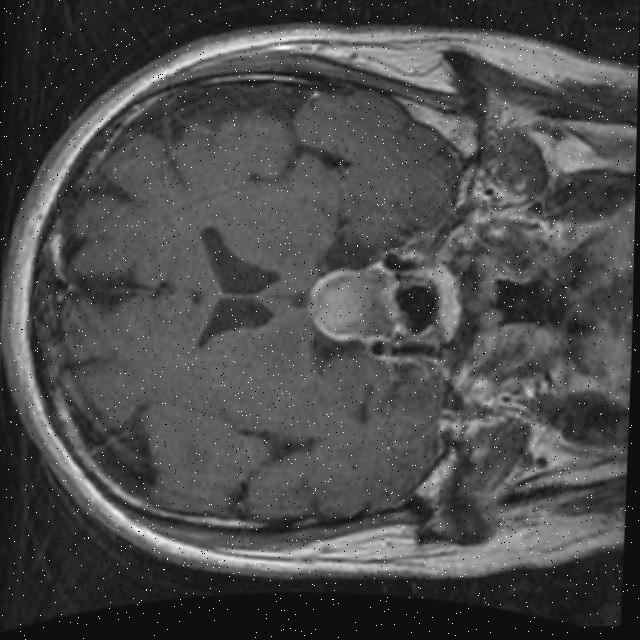Pituitary: (305, 258, 402, 344)
